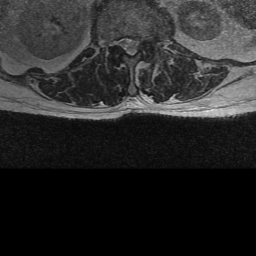CCS_stenosis: (126, 33, 135, 62)
LFS_severe_stenosis: (142, 31, 149, 52)
LLS_stenosis: (135, 33, 141, 53)
RFS_stenosis: (112, 34, 120, 55)
RLS_normal: (119, 32, 126, 56)
